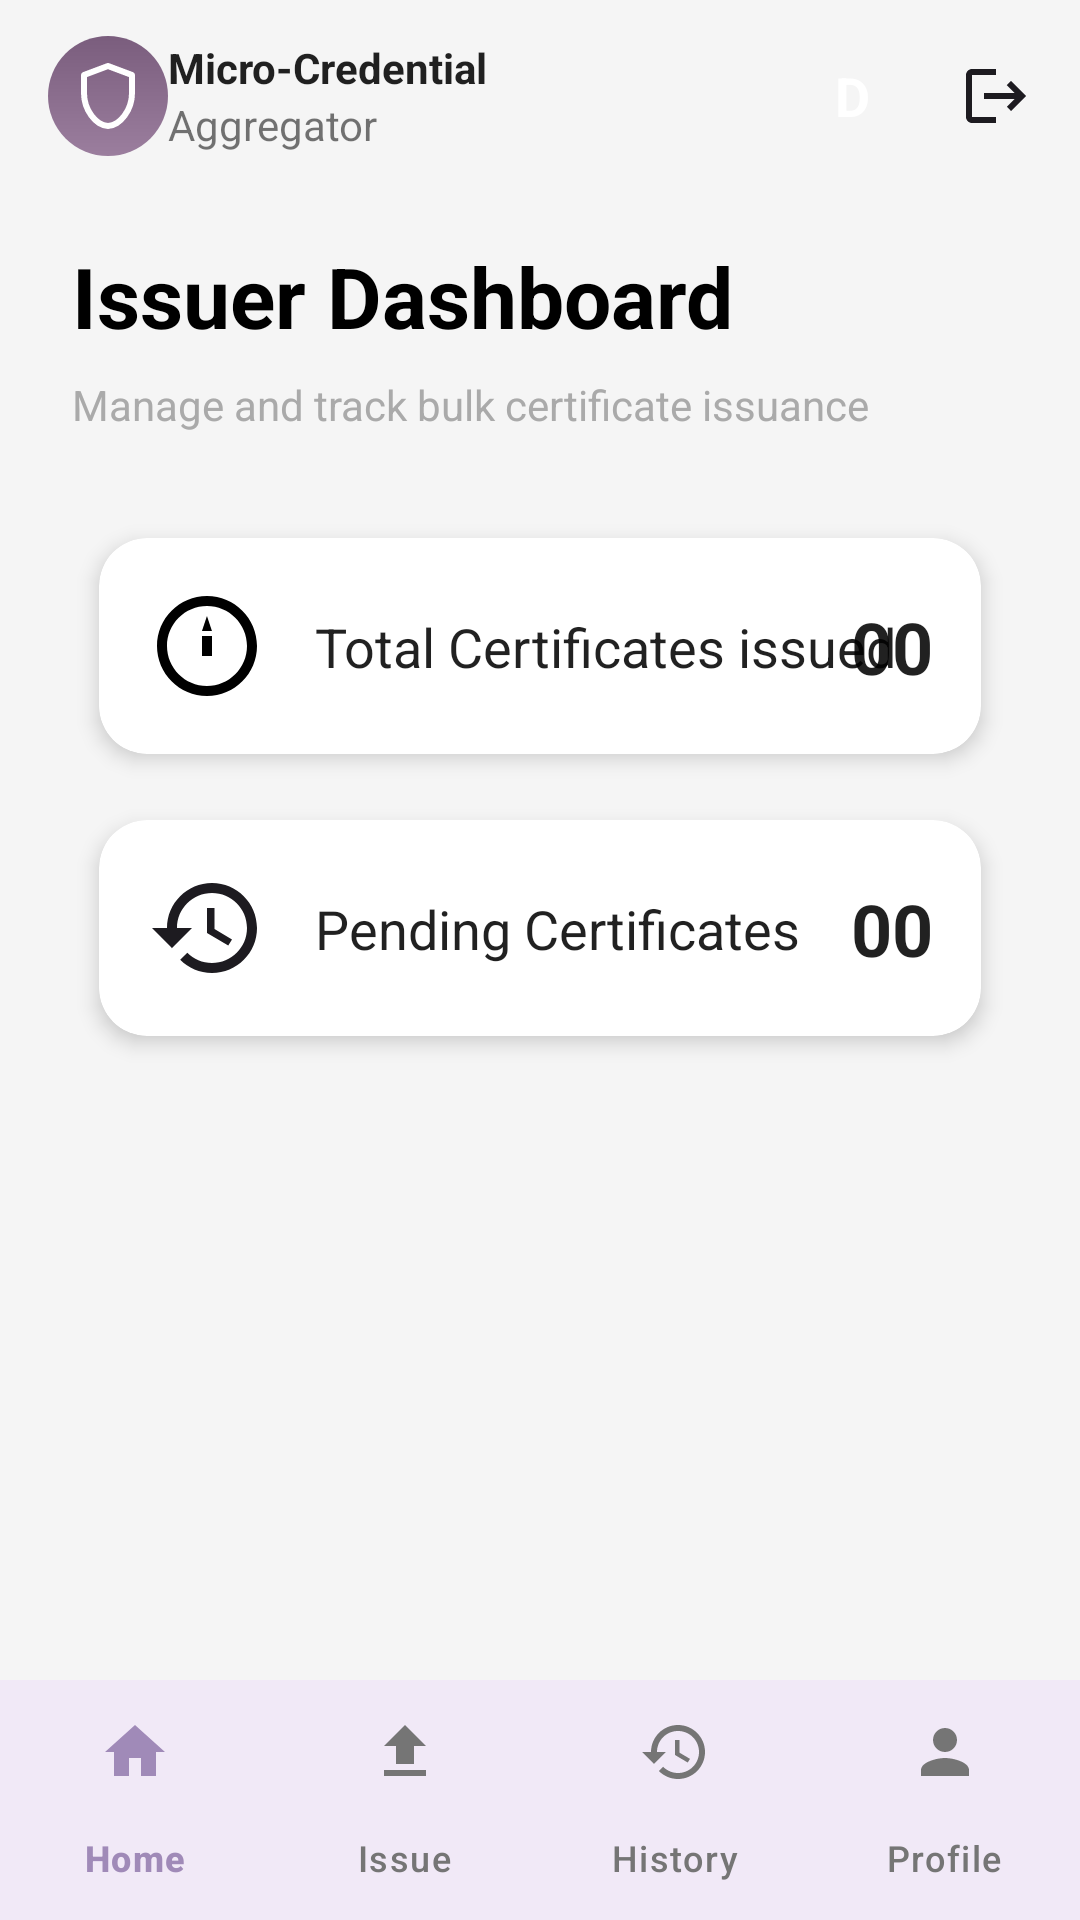

Icon bounding boxes for this 1080x1920 phone screenshot, format (x1, y1, x2, y2):
history: (152, 883, 257, 973)
shield: (48, 36, 168, 156)
